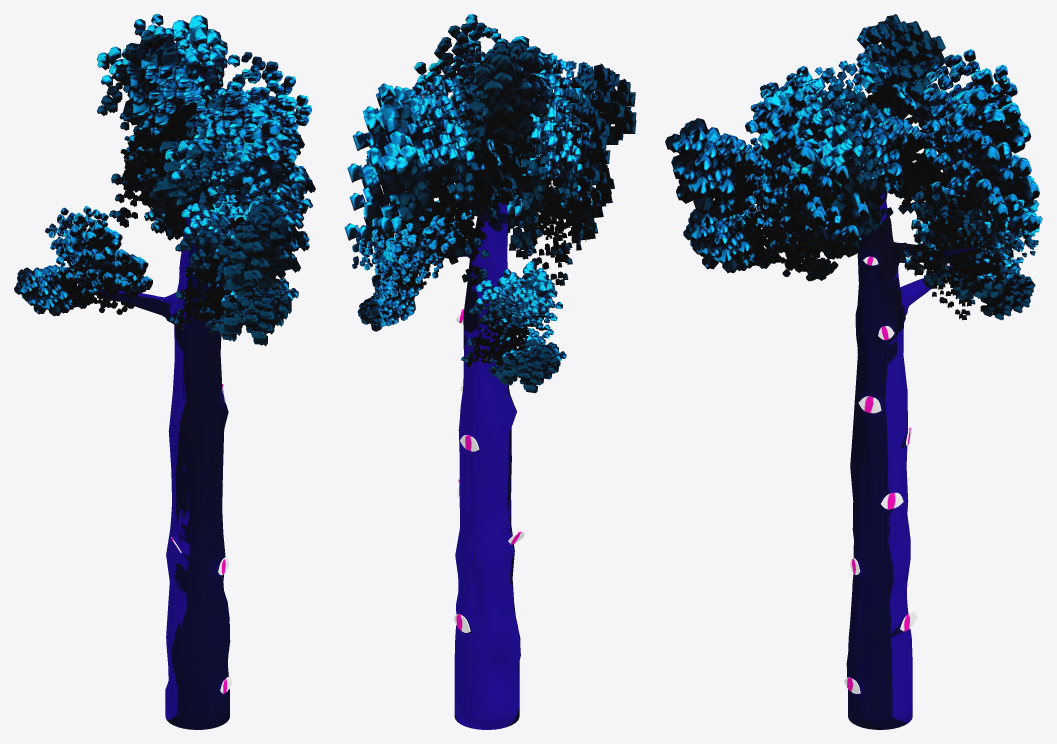
The model's file is cooltree.glb.
3 views of the same model, side by side, from view 1: azimuth 30°, elevation 25°; view 2: azimuth 150°, elevation 25°; view 3: azimuth 270°, elevation 25° (orthographic).
Visible parts, largest first — view 1: foliage (×6), treetrunk; view 2: foliage (×6), treetrunk; view 3: foliage (×6), treetrunk.
Boxes of the visible parts, box(x1,y1,x2,y2) form: foliage (×6): box(14, 14, 315, 346); treetrunk: box(78, 118, 230, 729); foliage (×6): box(344, 14, 636, 393); treetrunk: box(445, 177, 520, 729); foliage (×6): box(665, 14, 1042, 320); treetrunk: box(765, 191, 975, 729).
Bounding box in the file's own units: 7.48 × 22.44 × 11.25.
Materials: 3 (3 with a texture image).
